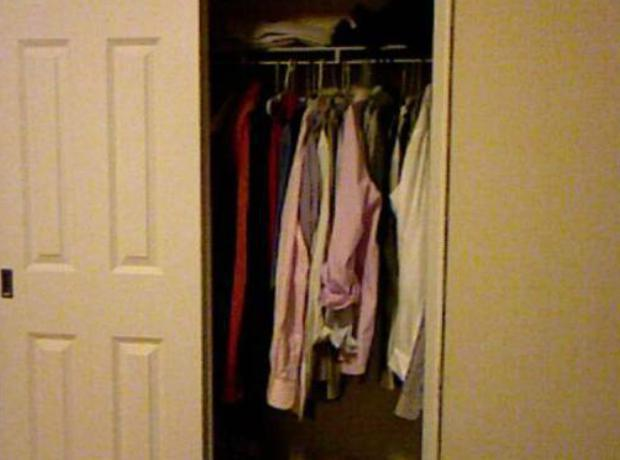Armario: (0, 0, 450, 460)
